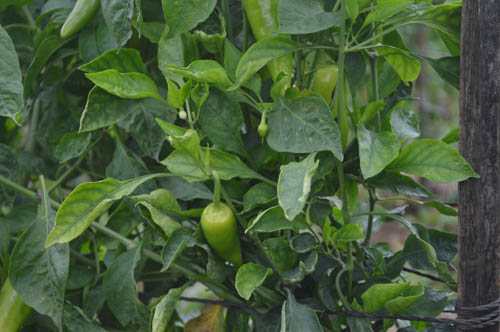ChiliPepper: (249, 4, 290, 81), (204, 207, 242, 261), (304, 61, 340, 105)
